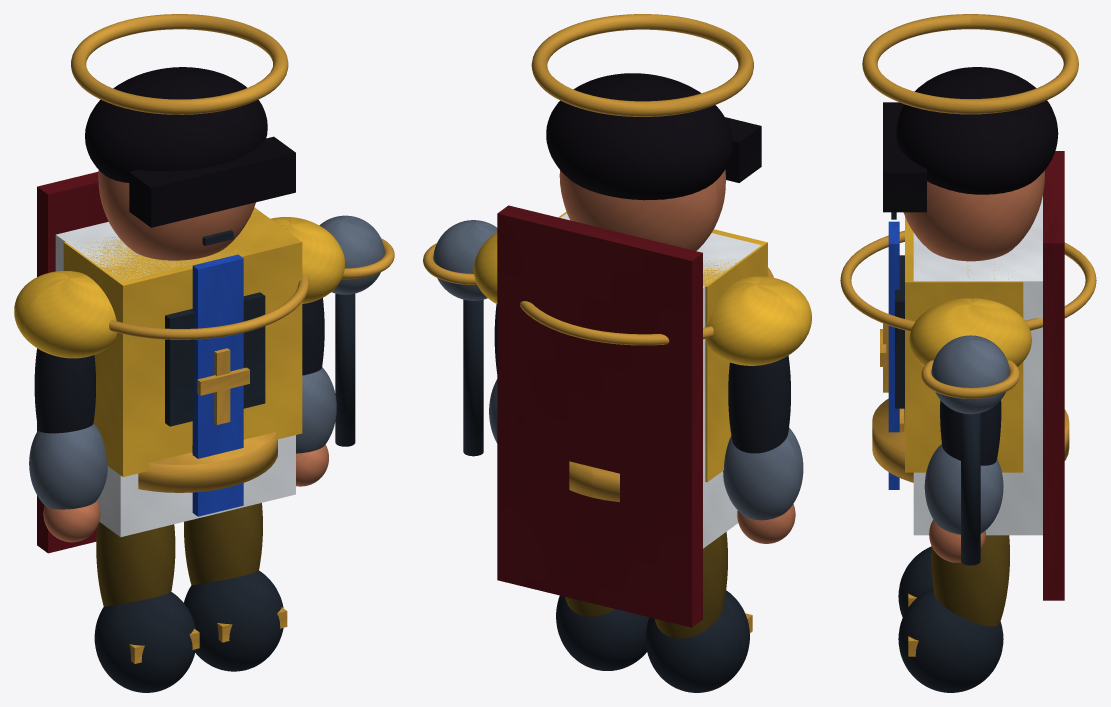
File: Specialization.glb
The picture shows the model from 3 angles, left to right: view 1: azimuth 30°, elevation 25°; view 2: azimuth 150°, elevation 25°; view 3: azimuth 270°, elevation 25°; orthographic projection. The views are drawn at different scales.
Parts seen in each view (by area): view 1: ChestPlate, Hair, WhiteRobe, BlueStole, HairFringe, Boot, DivineHalo, Boot.001, Shoulder, Head, Gauntlet, Leg (+16 smaller); view 2: Cape, Hair, DivineHalo, Shoulder, Head, Boot, Arm, ChestPlate, Gauntlet, Boot.001, WhiteRobe, MaceHandle (+8 smaller); view 3: Hair, WhiteRobe, Cape, ChestPlate, Head, DivineHalo, Boot.001, Shoulder.001, Leg.001, MaceHead, Gauntlet.001, HairFringe (+9 smaller).
Part boxes in pixels (x1,y1,x2,y2): ChestPlate: (63,207,302,476); Hair: (85,67,267,182); WhiteRobe: (55,222,295,537); BlueStole: (192,254,243,516); HairFringe: (129,136,295,227); Boot: (94,592,195,692); DivineHalo: (71,14,288,114); Boot.001: (184,570,283,671); Shoulder: (14,271,117,358); Head: (98,170,255,260); Gauntlet: (29,423,107,509); Leg: (96,522,175,606); Cape: (497,205,702,627); Hair: (546,73,732,200); DivineHalo: (531,14,753,116); Shoulder: (705,276,811,365); Head: (559,169,725,250); Boot: (645,590,749,692); Arm: (728,355,790,453); ChestPlate: (558,211,767,482); Gauntlet: (723,427,803,520); Boot.001: (556,595,648,670); WhiteRobe: (560,213,761,548); MaceHandle: (463,299,483,456); Hair: (896,67,1058,194); WhiteRobe: (913,196,1042,535); Cape: (1043,151,1064,600); ChestPlate: (905,217,1023,472); Head: (903,170,1044,261); DivineHalo: (862,14,1078,114); Boot.001: (898,588,1003,692); Shoulder.001: (909,298,1031,366); Leg.001: (931,535,1009,626); MaceHead: (931,335,1009,414); Gauntlet.001: (924,444,1003,534); HairFringe: (883,102,926,212).
Size of the model in its own units: 1.92 by 3.08 by 1.17.
Materials: 13 (11 with a texture image).
